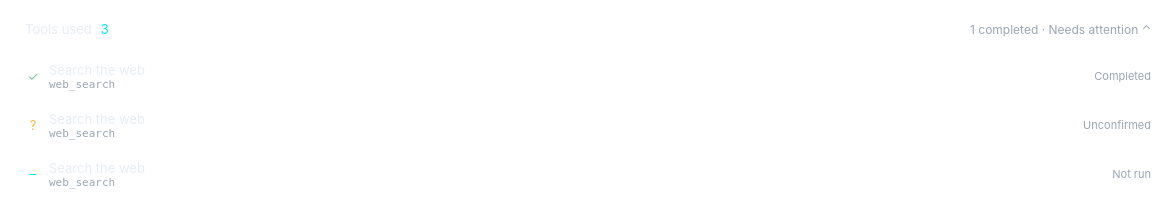
Test: keeps failures and uncertain results visible even when the section is collapsed
The width and height of the screenshot is (1176, 206).
Click the button "Tools used 3 1 completed · Needs attention ⌃" at [60, 29], box left=13, top=7, right=1163, bottom=51
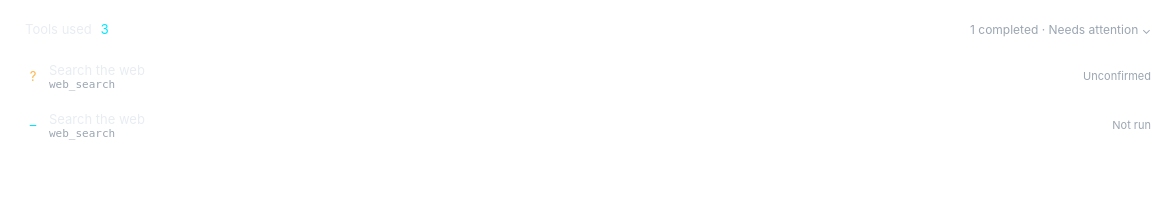
Expected: the text "Unconfirmed" is shown, left=1083, top=69, right=1151, bottom=83
Result: the number of list items is 2 at left=23, top=51, right=1153, bottom=100; left=23, top=100, right=1153, bottom=149
